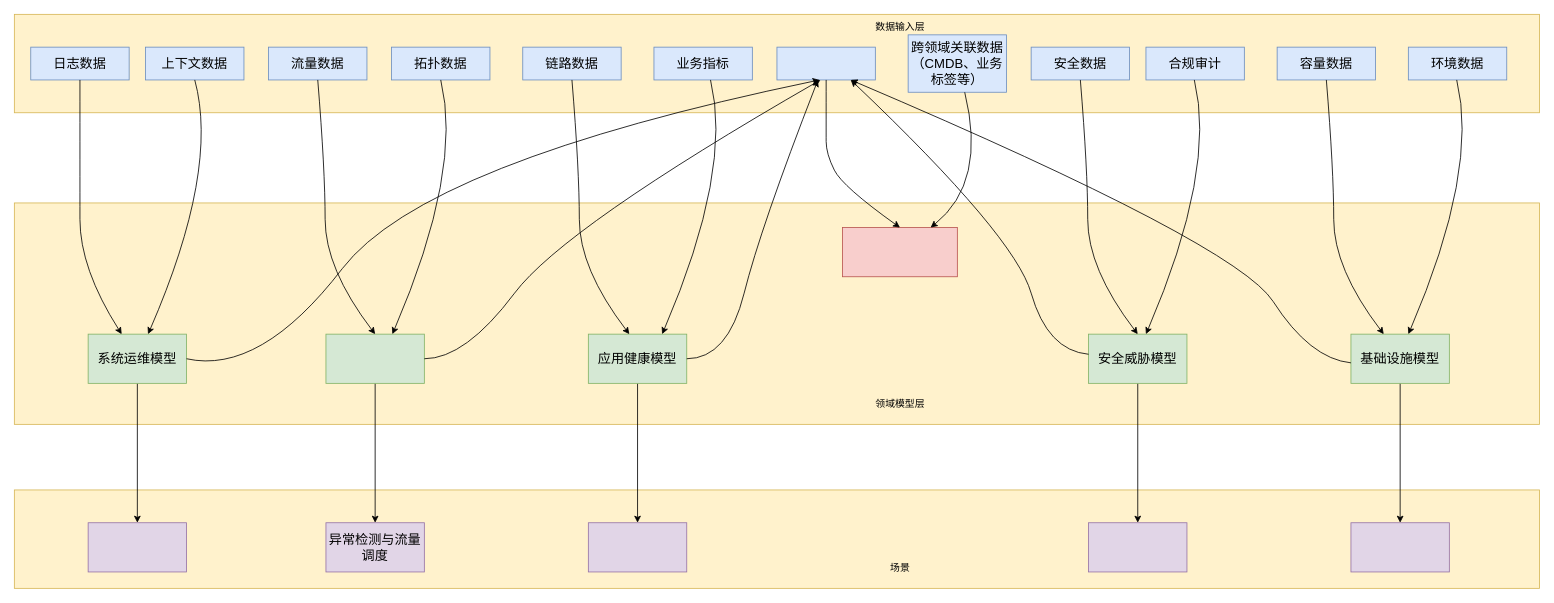
Image size: 1554x603. Some labels were removed from this diagram. The shapes that lost their labels are listed below. From the top down, each one's centre as x and y in pixels, then its label:
the point at 825,63: 各领域分析结果
the point at 899,252: 总控模型 （智能决策中枢）
the point at 374,358: 网络流量模型
the point at 137,547: 故障定位与性能优化
the point at 637,547: 服务治理与 体验分析
the point at 1137,547: 攻击检测与合规审计
the point at 1399,547: 容量与能耗管理
